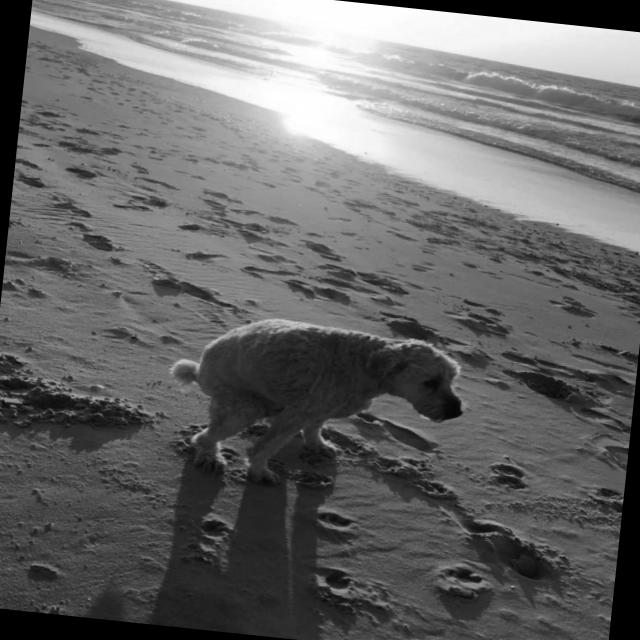squatting: (152, 306, 486, 510)
